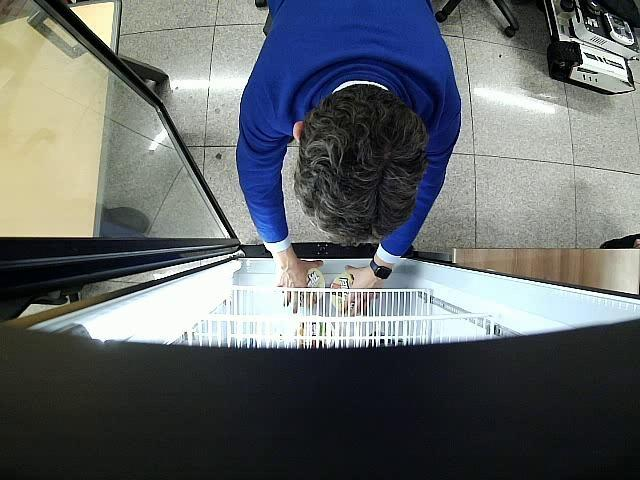03_chapagetti_L: (286, 268, 326, 311), (332, 272, 370, 312)
